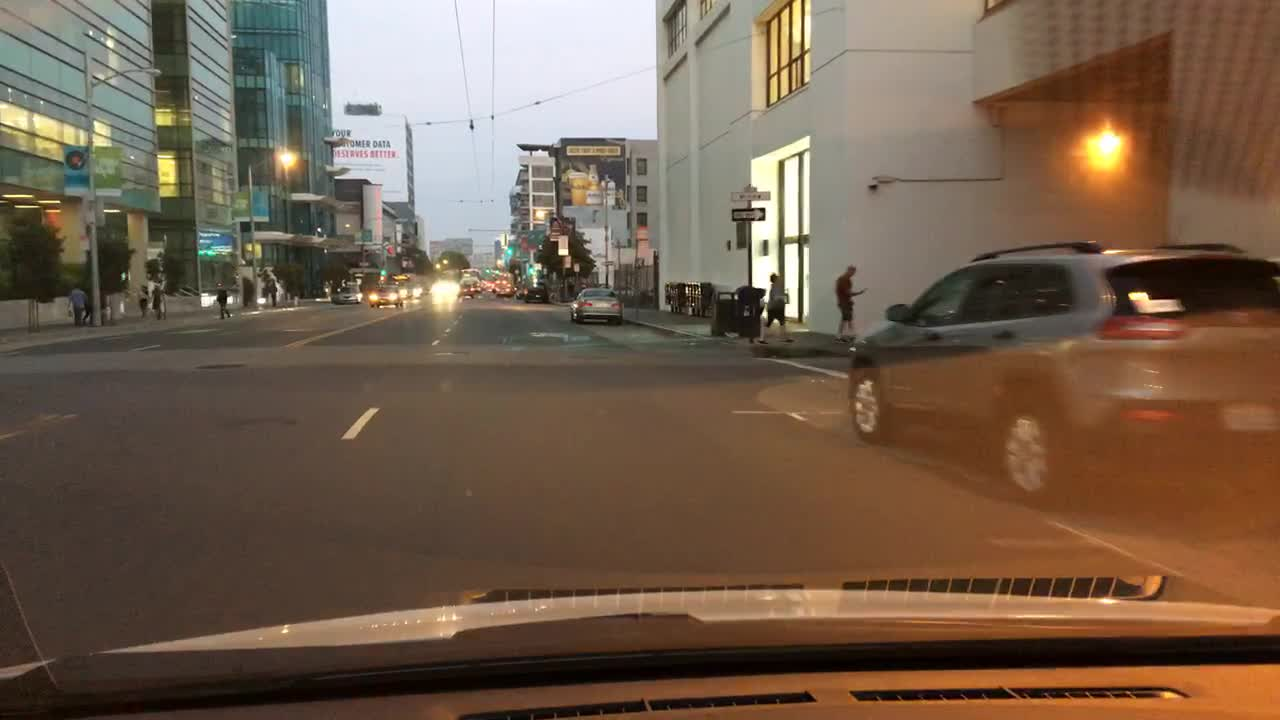car: (843, 238, 1278, 506), (567, 285, 624, 323), (368, 282, 405, 306), (525, 279, 554, 302), (332, 288, 362, 305), (431, 279, 459, 296), (491, 277, 515, 294), (404, 282, 424, 300), (514, 277, 529, 297), (459, 279, 477, 294), (479, 276, 494, 293), (359, 259, 371, 265)
person: (834, 263, 865, 339), (761, 271, 793, 342), (62, 282, 88, 328), (211, 277, 232, 322), (151, 279, 169, 320), (137, 280, 151, 317), (84, 288, 96, 326), (266, 279, 281, 303)
traffic light: (378, 265, 388, 279), (505, 247, 517, 257), (528, 262, 535, 274)
traffic sign: (729, 190, 769, 201), (730, 207, 766, 219), (557, 234, 570, 254), (560, 256, 570, 268)
